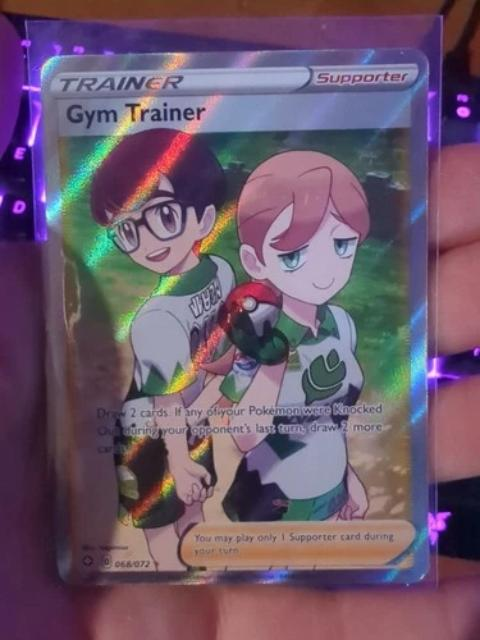Card: (33, 43, 437, 592)
Name: (62, 99, 214, 133)
